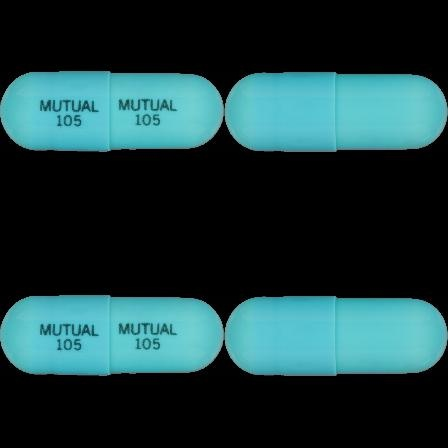50090-0298: (0, 0, 224, 224)
